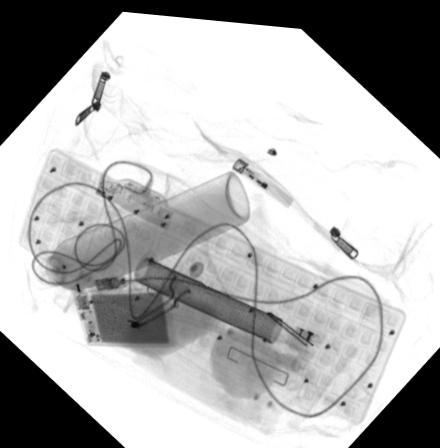Lighter: (229, 152, 294, 203)
Powerbank: (71, 285, 176, 342)
Sprayer: (29, 164, 251, 288)
